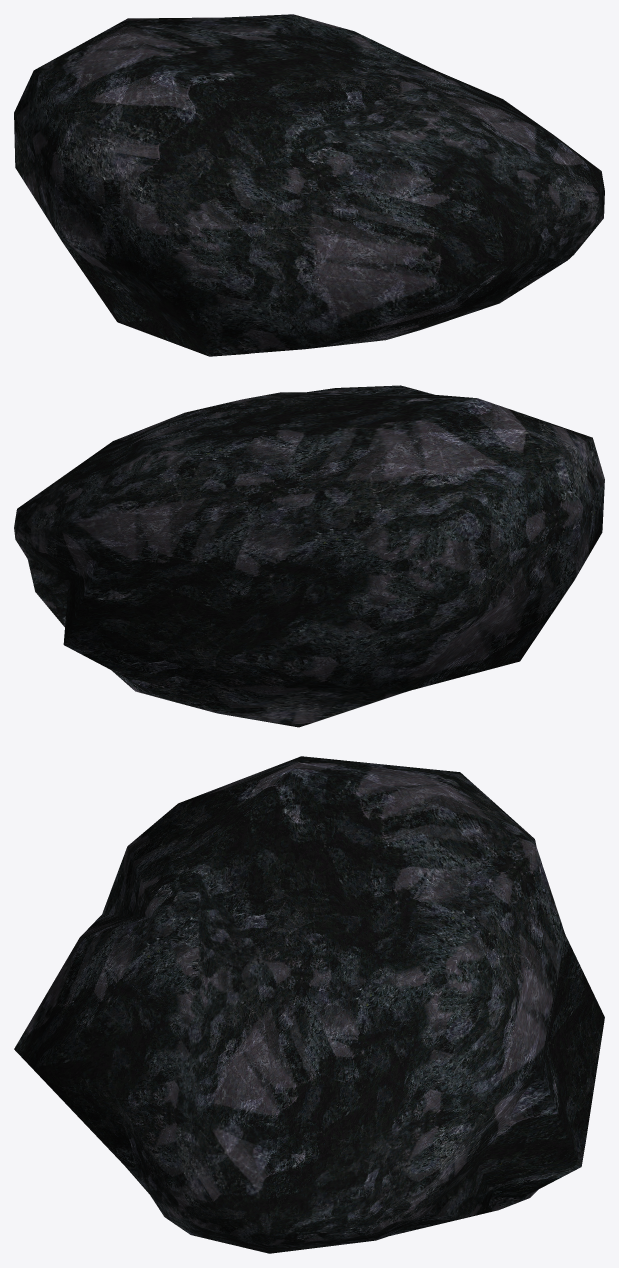
File: asteroid_obsidian_radial_s03_l0.fbx
3 renders of one model, top to bottom at view 1: azimuth 30°, elevation 25°; view 2: azimuth 150°, elevation 25°; view 3: azimuth 270°, elevation 25°, orthographic. The views are drawn at different scales.
Parts seen in each view (by area): view 1: mesh_node; view 2: mesh_node; view 3: mesh_node.
Part boxes in pixels (box(x1,y1,x2,y2)): mesh_node: box(14, 14, 604, 356); mesh_node: box(14, 385, 604, 727); mesh_node: box(14, 756, 604, 1253).
Bounding box in the file's own units: 5.98 × 3.24 × 5.06.
